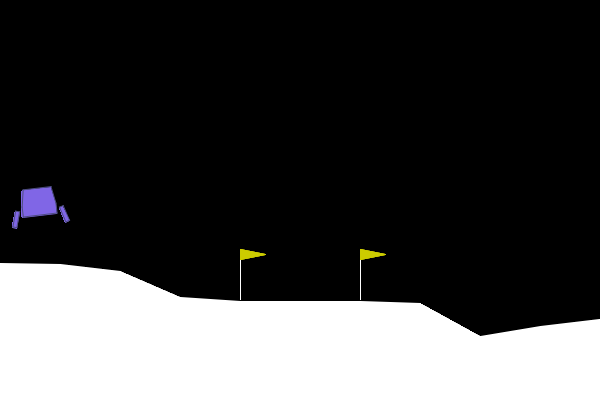lander: (7, 183, 71, 230)
